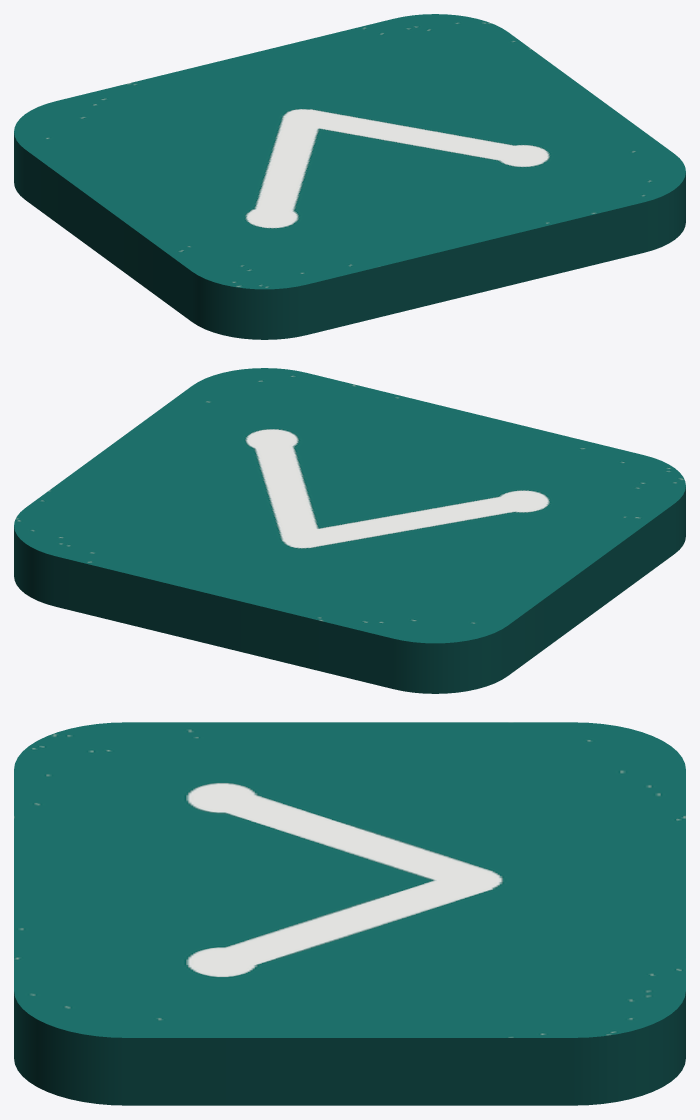
Rendered from stroke_bend.glb.
The picture shows the model from 3 angles, top to bottom: view 1: azimuth 30°, elevation 25°; view 2: azimuth 150°, elevation 25°; view 3: azimuth 270°, elevation 25°; orthographic projection. The views are drawn at different scales.
Visible parts, largest first — view 1: stroke_bend; view 2: stroke_bend; view 3: stroke_bend.
Boxes of the visible parts, x1,y1,x2,y2 form: stroke_bend: [14, 14, 685, 339]; stroke_bend: [14, 368, 685, 693]; stroke_bend: [14, 722, 685, 1105].
Size of the model in its own units: 0.04 by 0.004 by 0.036.
Materials: 2 (1 with a texture image).
